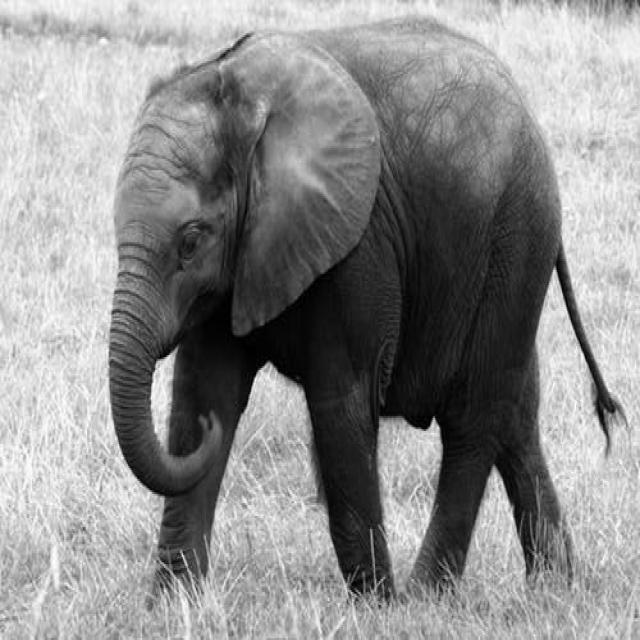Elephant: (106, 11, 628, 614)
